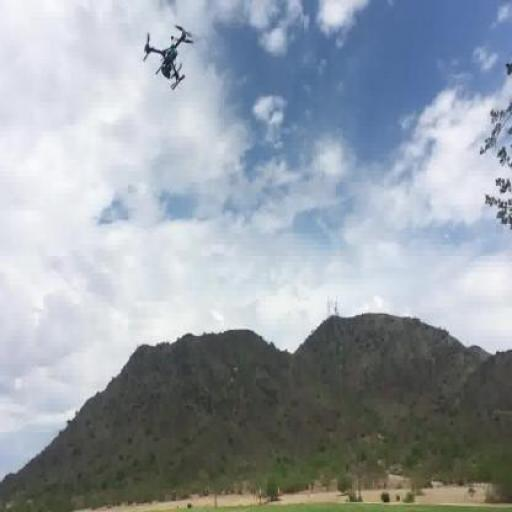drone: (142, 23, 196, 91)
